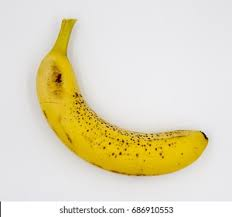Banana: (30, 13, 212, 181)
